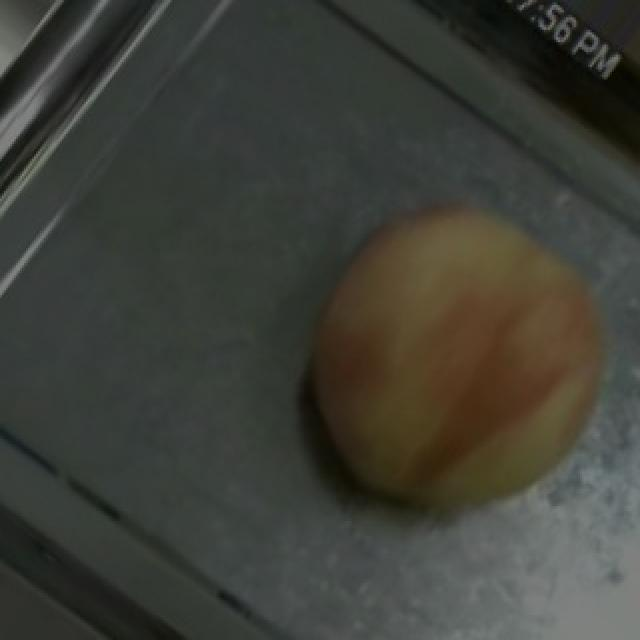Fruit: (262, 152, 624, 576)
